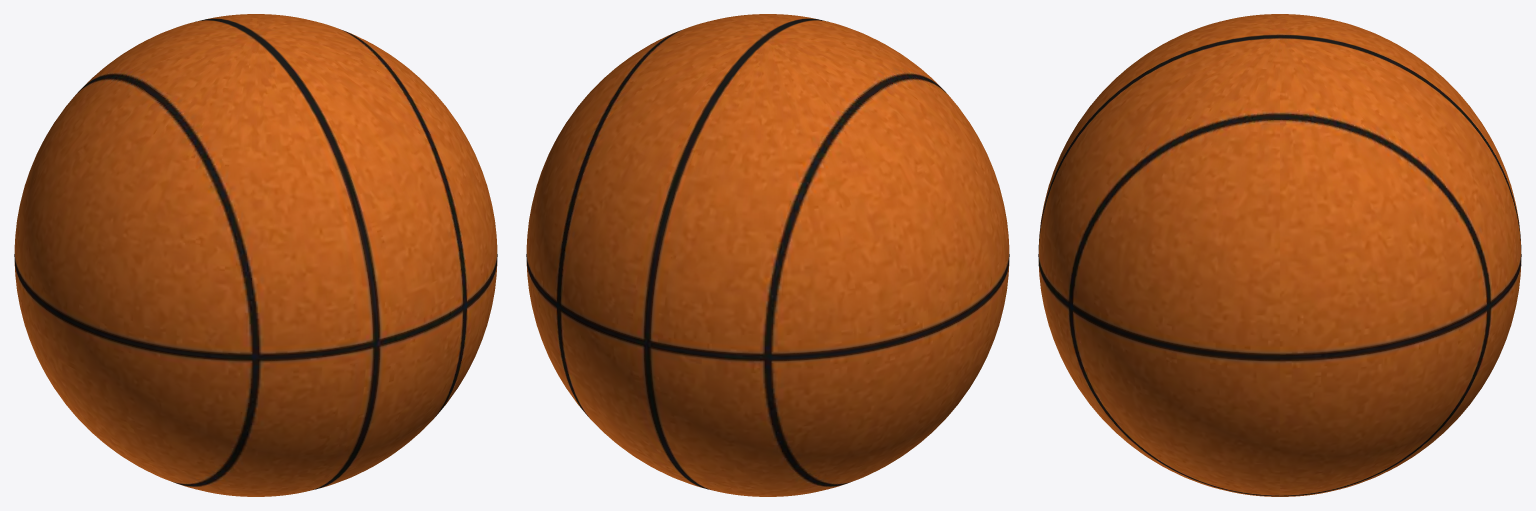
Rendered from ball-basketball.glb.
The picture shows the model from 3 angles, left to right: view 1: azimuth 30°, elevation 25°; view 2: azimuth 150°, elevation 25°; view 3: azimuth 270°, elevation 25°; orthographic projection.
Visible parts, largest first — view 1: Ball; view 2: Ball; view 3: Ball.
Part boxes in pixels (x1=…): Ball: x1=14, y1=14, x2=497, y2=496; Ball: x1=526, y1=14, x2=1009, y2=496; Ball: x1=1038, y1=14, x2=1521, y2=496.
Size of the model in its own units: 0.239 by 0.239 by 0.239.
Materials: 2 (2 with a texture image).
